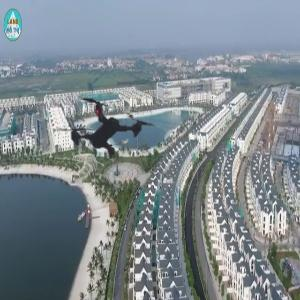drone: (37, 58, 178, 199)
